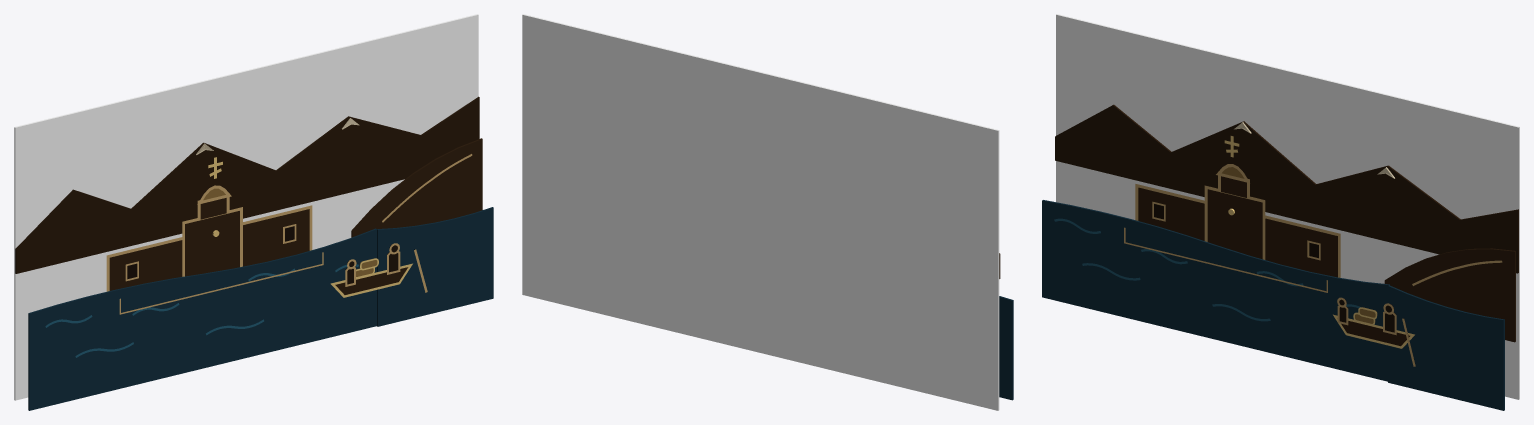
Rendered from loc-zatoplenie-obiteli.glb.
3 views of the same model, side by side, from view 1: azimuth 30°, elevation 25°; view 2: azimuth 150°, elevation 25°; view 3: azimuth 330°, elevation 25° (orthographic). The views are drawn at different scales.
Visible parts, largest first — view 1: loc-zatoplenie-obiteli; view 2: loc-zatoplenie-obiteli; view 3: loc-zatoplenie-obiteli.
Boxes of the visible parts, x1=… form: loc-zatoplenie-obiteli: x1=14, y1=14, x2=493, y2=410; loc-zatoplenie-obiteli: x1=522, y1=14, x2=1013, y2=410; loc-zatoplenie-obiteli: x1=1042, y1=14, x2=1519, y2=410.
Bounding box in the file's own units: 5.33 × 3 × 0.541.
